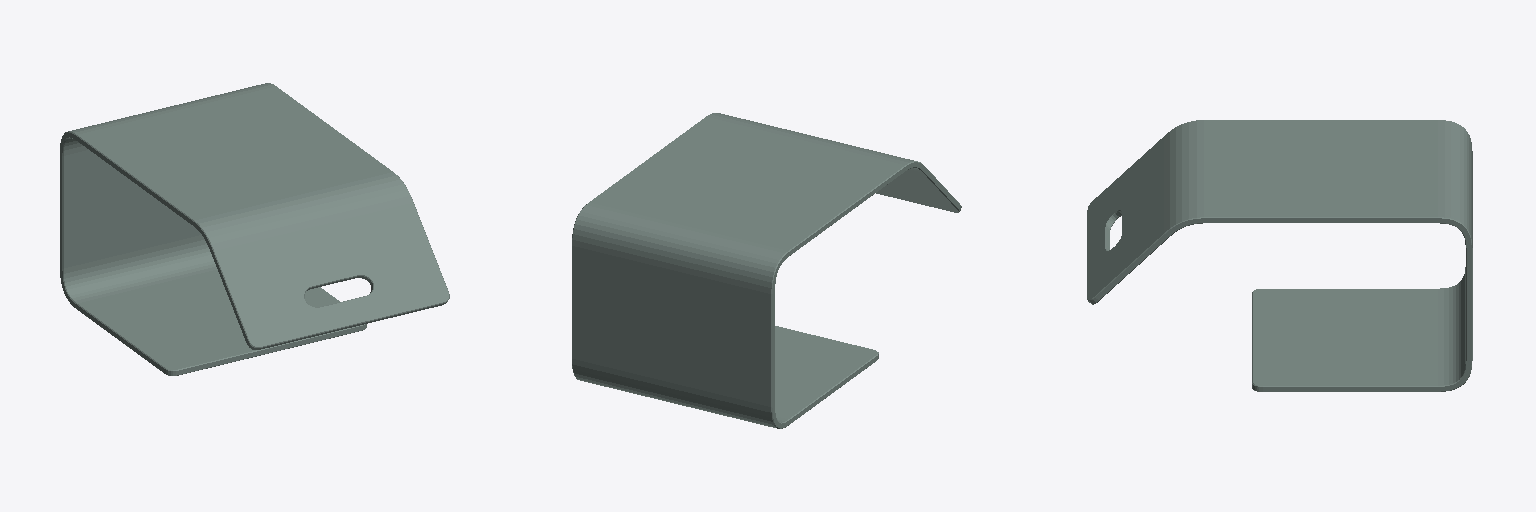
File: Artek_Kanto_Rack_mat(5).obj
3 views of the same model, side by side, from view 1: azimuth 30°, elevation 25°; view 2: azimuth 150°, elevation 25°; view 3: azimuth 270°, elevation 25° (orthographic).
Parts seen in each view (by area): view 1: Artek_Kanto_Rack_mat5; view 2: Artek_Kanto_Rack_mat5; view 3: Artek_Kanto_Rack_mat5.
Part boxes in pixels (x1,y1,x2,y2): Artek_Kanto_Rack_mat5: (60,83,449,375); Artek_Kanto_Rack_mat5: (572,113,961,428); Artek_Kanto_Rack_mat5: (1087,120,1472,391).
Bounding box in the file's own units: 34 × 28.3 × 56.5.